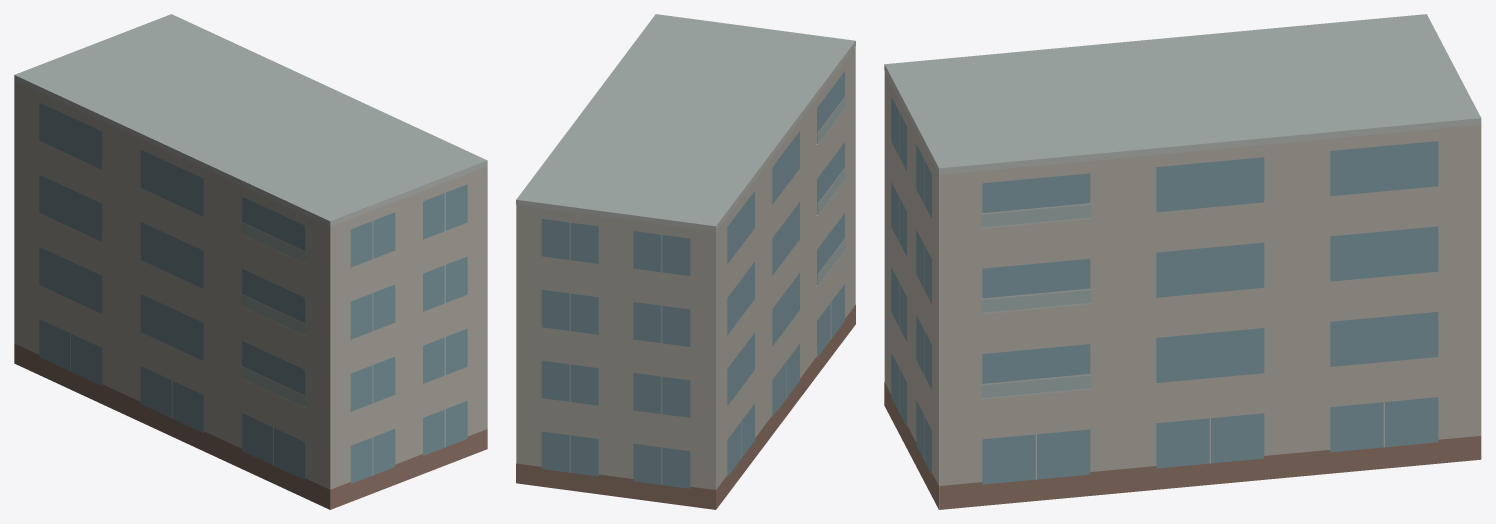
The model's file is survey-upis-32798991.glb.
3 renders of one model, left to right at view 1: azimuth 30°, elevation 25°; view 2: azimuth 150°, elevation 25°; view 3: azimuth 270°, elevation 25°, orthographic. The views are drawn at different scales.
Visible parts, largest first — view 1: survey-upis-32798991.tmp; view 2: survey-upis-32798991.tmp; view 3: survey-upis-32798991.tmp.
Boxes of the visible parts, x1,y1,x2,y2 form: survey-upis-32798991.tmp: (14,14,487,509); survey-upis-32798991.tmp: (516,14,855,509); survey-upis-32798991.tmp: (884,14,1481,509).
Size of the model in its own units: 12.42 by 12.8 by 20.29.
